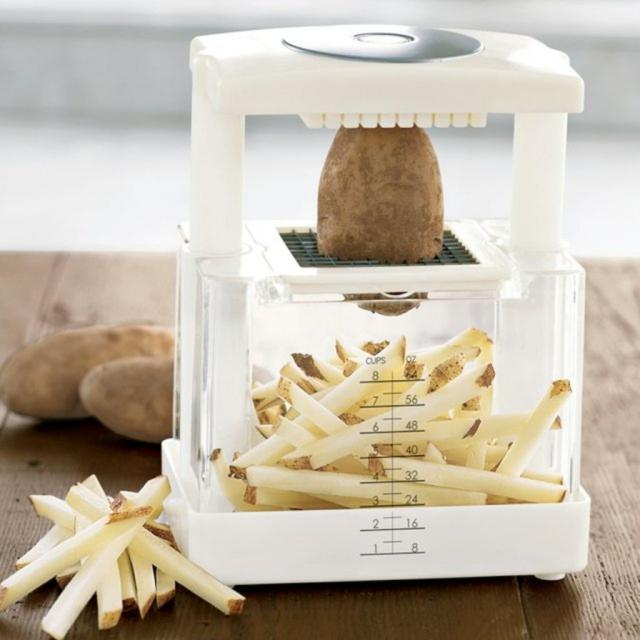Potato: (210, 336, 569, 504), (0, 473, 246, 639), (310, 117, 455, 274), (0, 321, 176, 422), (80, 359, 172, 444)
